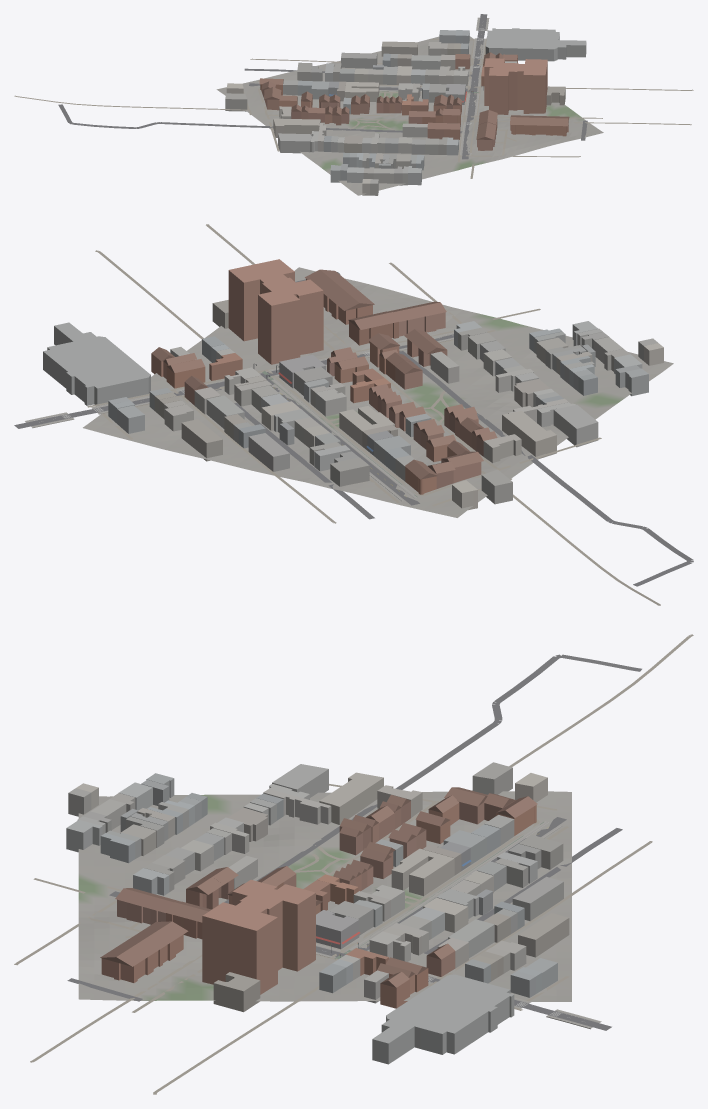
File: tile_-3_-7.glb
3 views of the same model, one above another, from view 1: azimuth 30°, elevation 25°; view 2: azimuth 150°, elevation 25°; view 3: azimuth 270°, elevation 25° (orthographic). The views are drawn at different scales.
Visible parts, largest first — view 1: buildings, terrain, paths, roads, sidewalks; view 2: buildings, terrain, paths, roads, sidewalks; view 3: buildings, terrain, paths, roads, sidewalks.
Part boxes in pixels (x1,y1,x2,y2): buildings: (225, 28, 586, 195); terrain: (216, 36, 603, 195); paths: (14, 37, 693, 178); roads: (58, 14, 587, 159); sidewalks: (258, 17, 489, 155); buildings: (43, 259, 663, 510); terrain: (83, 267, 673, 517); paths: (87, 224, 660, 605); roads: (14, 272, 693, 586); sidewalks: (25, 332, 453, 500); buildings: (66, 762, 569, 1064); terrain: (78, 791, 571, 1001); paths: (14, 634, 693, 1094); roads: (67, 654, 641, 1030); sidewalks: (316, 821, 601, 1029).
Size of the model in its own units: 547 by 42.25 by 353.
